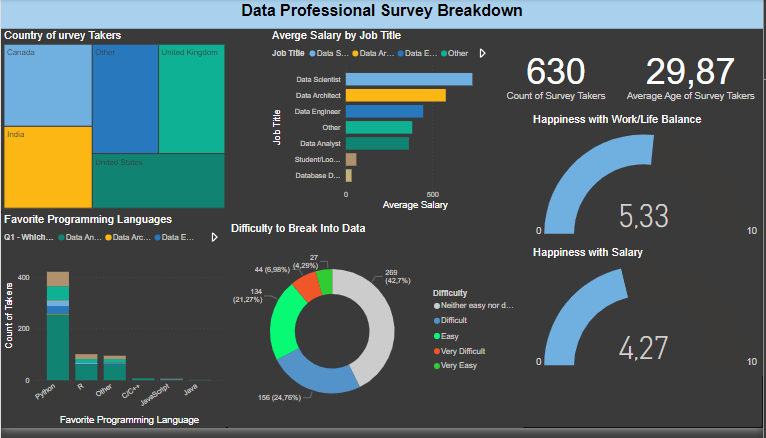

What the dashboard file says about the page in this screenshot:
{"tool":"powerbi","page":{"name":"Página 1","canvas":[1280,720],"ordinal":0},"visuals":[{"type":"textbox","box":[0,0,1280,50.4],"z":0},{"type":"card","fields":{"Values":["CountNonNull(Data Professional Survey.Unique ID)"]},"box":[828.1,50.4,208.3,151.2],"z":1000},{"type":"card","fields":{"Values":["Avg(Data Professional Survey.Q10 - Current Age)"]},"box":[1036.4,50.4,243.6,151.2],"z":2000},{"type":"barChart","title":"Averge Salary by Job Title","fields":{"Category":["Data Professional Survey.Q1 - Which Title Best Fits your Current Role?.1"],"Y":["Avg(Data Professional Survey.Average Salary)"],"Series":["Data Professional Survey.Q1 - Which Title Best Fits your Current Role?.1"]},"box":[450.2,50.4,378,309.1],"z":3000},{"type":"columnChart","title":"Favorite Programming Languages","fields":{"Category":["Data Professional Survey.Q5 - Favorite Programming Language.1"],"Y":["CountNonNull(Data Professional Survey.Unique ID)"],"Series":["Data Professional Survey.Q1 - Which Title Best Fits your Current Role?.1"]},"box":[0,359.5,378,361.2],"z":4000},{"type":"treemap","title":"Country of urvey Takers","fields":{"Group":["Data Professional Survey.Q11 - Which Country do you live in?.1"],"Values":["Count(Data Professional Survey.Q11 - Which Country do you live in?.1)"]},"box":[0,50.4,381.3,305.7],"z":4001},{"type":"gauge","title":"Happiness with Work/Life Balance","fields":{"Y":["Avg(Data Professional Survey.Q6 - How Happy are you in your Current Position with the following? (Management))"],"MinValue":["Min(Data Professional Survey.Q6 - How Happy are you in your Current Position with the following? (Management))"],"MaxValue":["Max(Data Professional Survey.Q6 - How Happy are you in your Current Position with the following? (Management))"]},"box":[888.6,191.5,391.4,223.4],"z":4002},{"type":"gauge","title":"Happiness with Salary","fields":{"Y":["Avg(Data Professional Survey.Q6 - How Happy are you in your Current Position with the following? (Salary))"],"MinValue":["Min(Data Professional Survey.Q6 - How Happy are you in your Current Position with the following? (Salary))"],"MaxValue":["Max(Data Professional Survey.Q6 - How Happy are you in your Current Position with the following? (Salary))"]},"box":[888.6,414.9,391.4,218.4],"z":4003},{"type":"donutChart","title":"Difficulty to Break Into Data","fields":{"Category":["Data Professional Survey.Q7 - How difficult was it for you to break into Data?"],"Y":["CountNonNull(Data Professional Survey.Q7 - How difficult was it for you to break into Data?)"]},"box":[381.3,374.6,495.5,346],"z":4004}]}

Visuals, with their boxes in screenshot pixels (x1, y1, x2, y2), scaled from the page's 1280x720 canvas onto the 766x438 screenshot:
textbox: {"left": 0, "top": 0, "right": 765, "bottom": 31}
card - CountNonNull(Data Professional Survey.Unique ID): {"left": 496, "top": 31, "right": 620, "bottom": 123}
card - Avg(Data Professional Survey.Q10 - Current Age): {"left": 620, "top": 31, "right": 765, "bottom": 123}
"Averge Salary by Job Title" barChart: {"left": 269, "top": 31, "right": 496, "bottom": 219}
"Favorite Programming Languages" columnChart: {"left": 0, "top": 219, "right": 226, "bottom": 437}
"Country of urvey Takers" treemap: {"left": 0, "top": 31, "right": 228, "bottom": 217}
"Happiness with Work/Life Balance" gauge: {"left": 532, "top": 116, "right": 765, "bottom": 252}
"Happiness with Salary" gauge: {"left": 532, "top": 252, "right": 765, "bottom": 385}
"Difficulty to Break Into Data" donutChart: {"left": 228, "top": 228, "right": 525, "bottom": 437}
